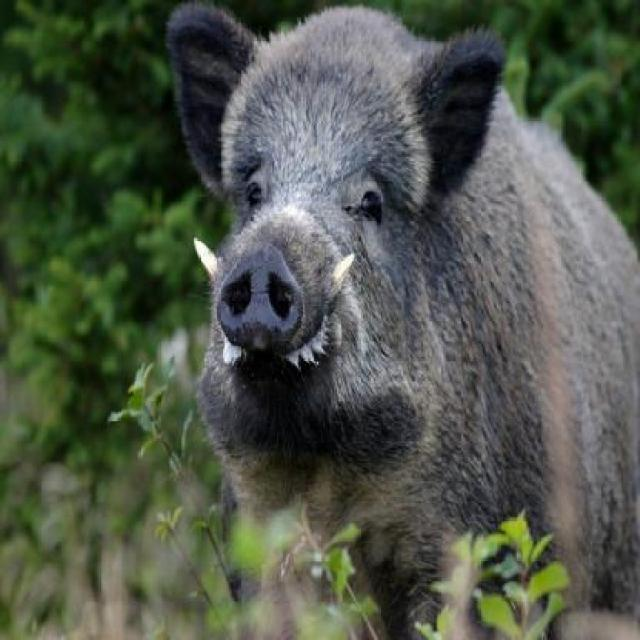Wild Boar: (160, 0, 638, 640)
